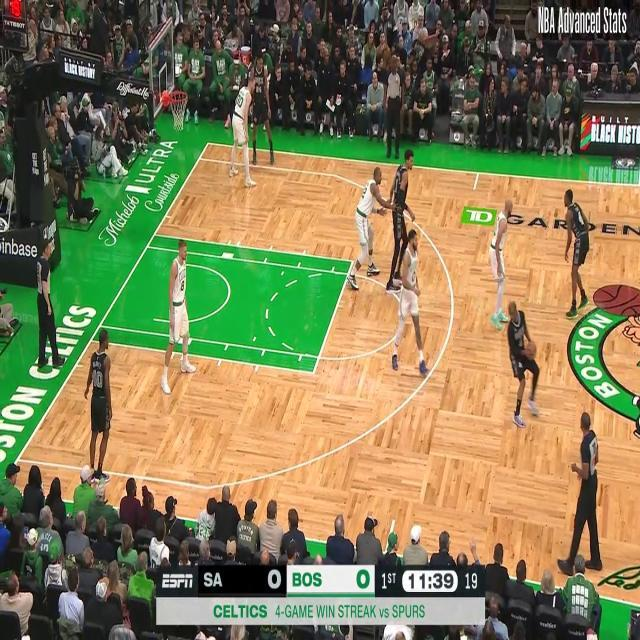ball: (524, 336, 540, 369)
player: (346, 165, 398, 292), (78, 326, 118, 488), (390, 226, 430, 378), (159, 238, 197, 396), (504, 296, 541, 431), (562, 186, 594, 322), (386, 146, 414, 296), (224, 70, 258, 190), (246, 54, 278, 171), (488, 196, 514, 332)
